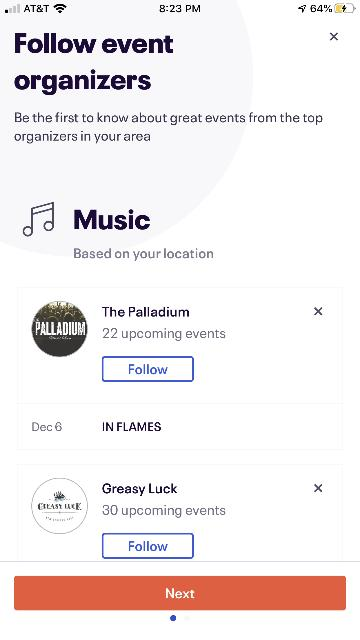Icon: (314, 306, 322, 316), (330, 32, 338, 40), (314, 484, 322, 492)
Image: (30, 300, 88, 358), (31, 478, 88, 534), (22, 202, 54, 236)
PageIndicator: (170, 615, 190, 621)
Text: (15, 33, 174, 96), (14, 112, 322, 144), (73, 248, 212, 262), (102, 504, 226, 518), (74, 208, 150, 230), (102, 328, 226, 340), (102, 482, 178, 496), (102, 306, 188, 316), (103, 422, 161, 432), (128, 364, 168, 374), (128, 541, 168, 551), (33, 422, 62, 432), (166, 588, 194, 598)
TextButton: (14, 576, 346, 610), (102, 356, 194, 382), (102, 533, 194, 559)
UpperTaskBar: (0, 0, 360, 14)
